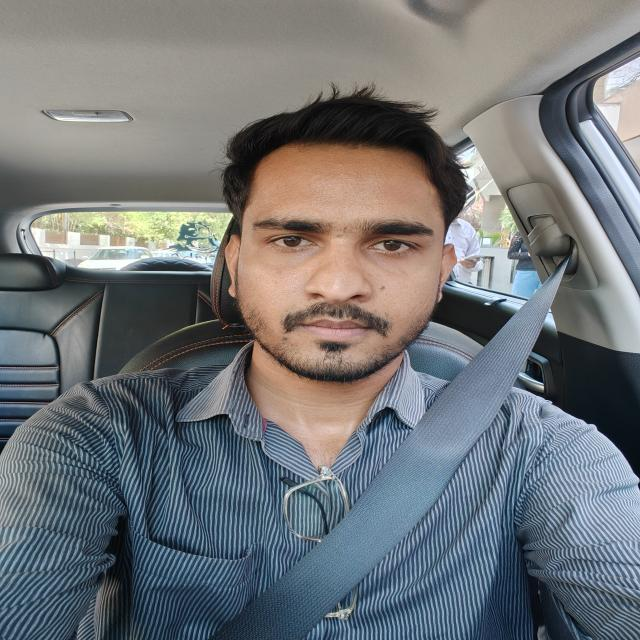seatbelt: (216, 239, 574, 640)
